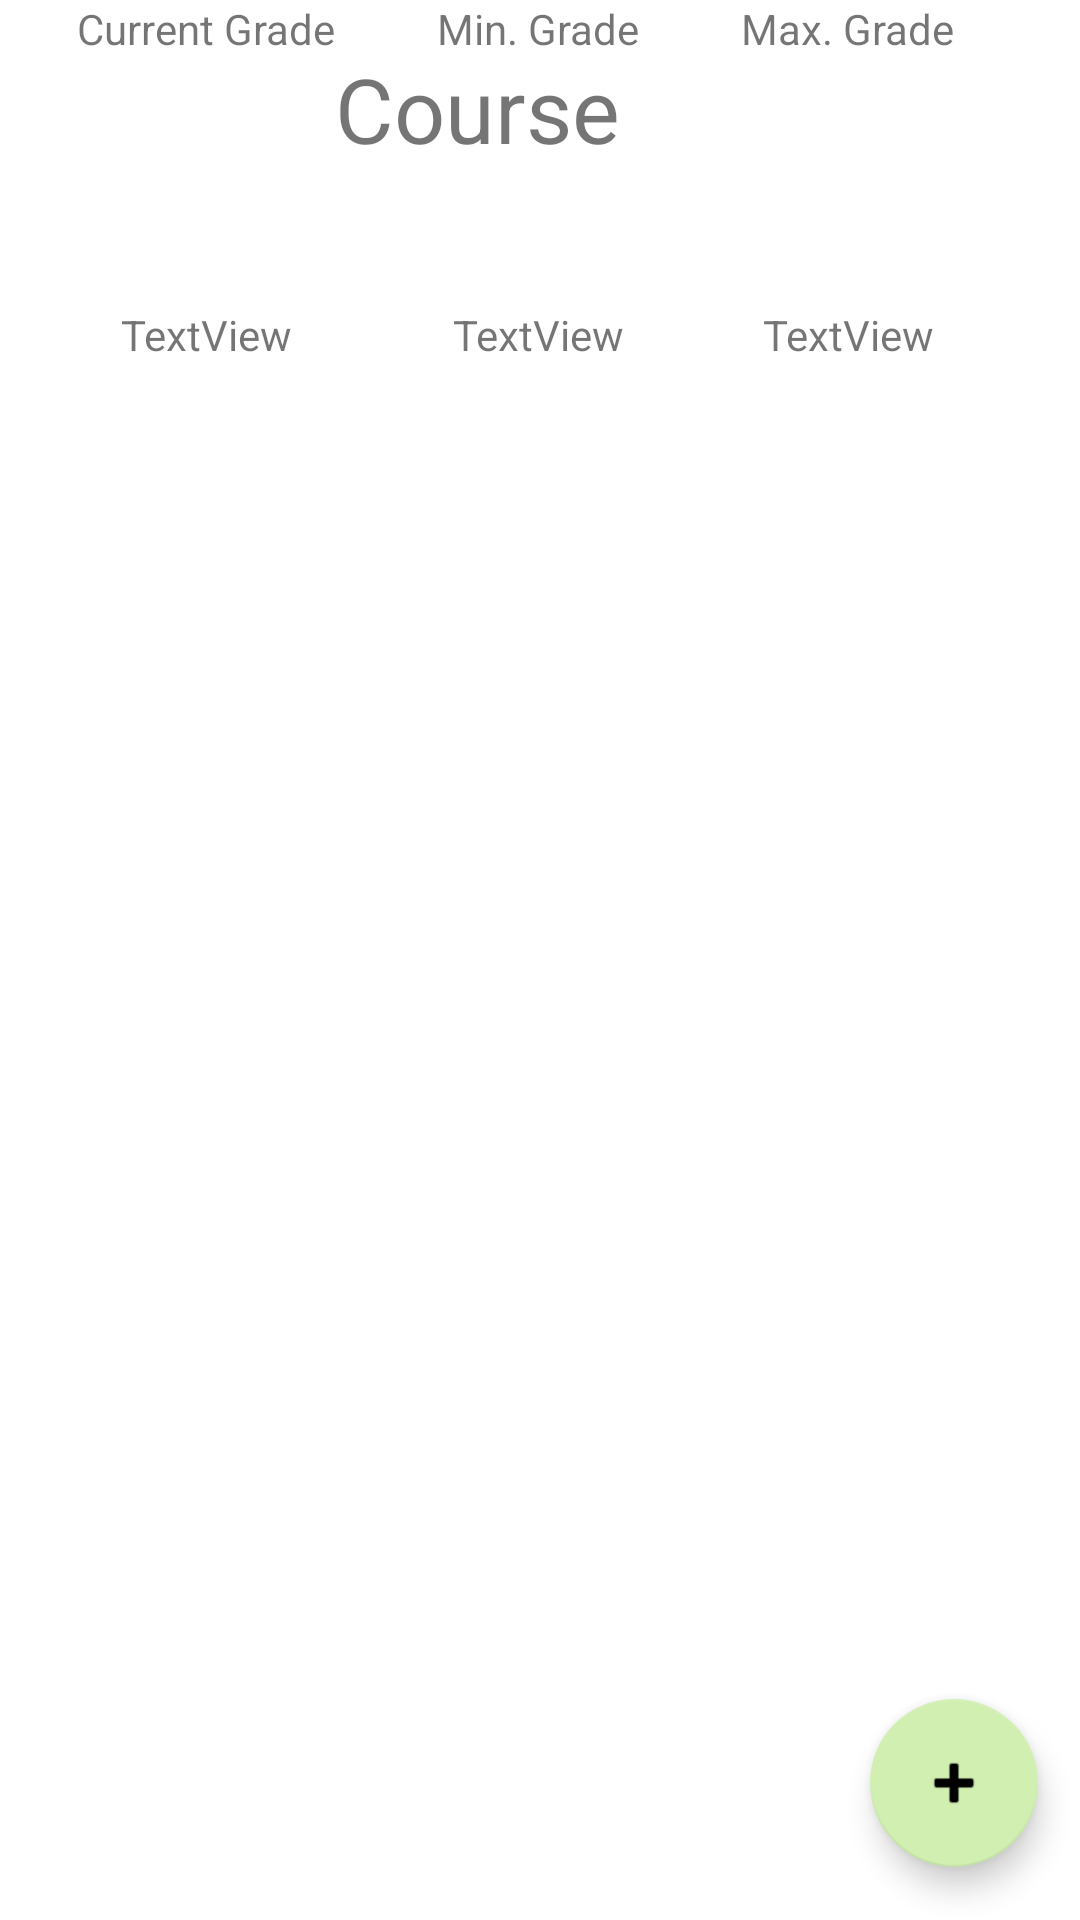

Icon click points for this 1080*1920 phone screenshot, format [x,y]:
add: [954,1783]
